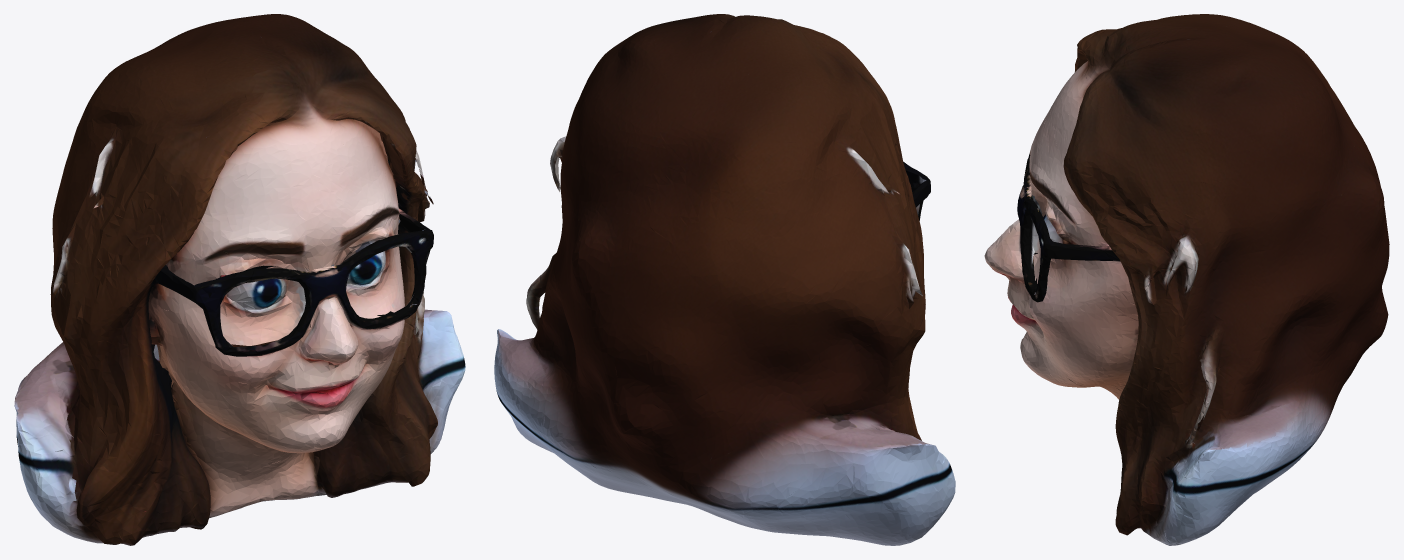
File: h3t_portrait_0002.glb
3 views of the same model, side by side, from view 1: azimuth 30°, elevation 25°; view 2: azimuth 150°, elevation 25°; view 3: azimuth 270°, elevation 25° (orthographic). The views are drawn at different scales.
Parts seen in each view (by area): view 1: geometry_0; view 2: geometry_0; view 3: geometry_0.
Part boxes in pixels (x1,y1,x2,y2): geometry_0: [14, 14, 465, 545]; geometry_0: [494, 14, 955, 545]; geometry_0: [984, 14, 1389, 545].
Bounding box in the file's own units: 1.96 × 1.98 × 1.64.
1 material, 1 textured.
